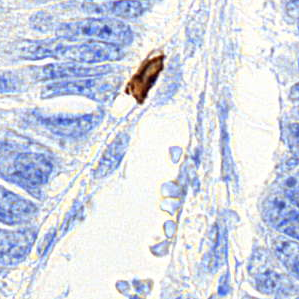Lymphocyte: (131, 56, 159, 103)
